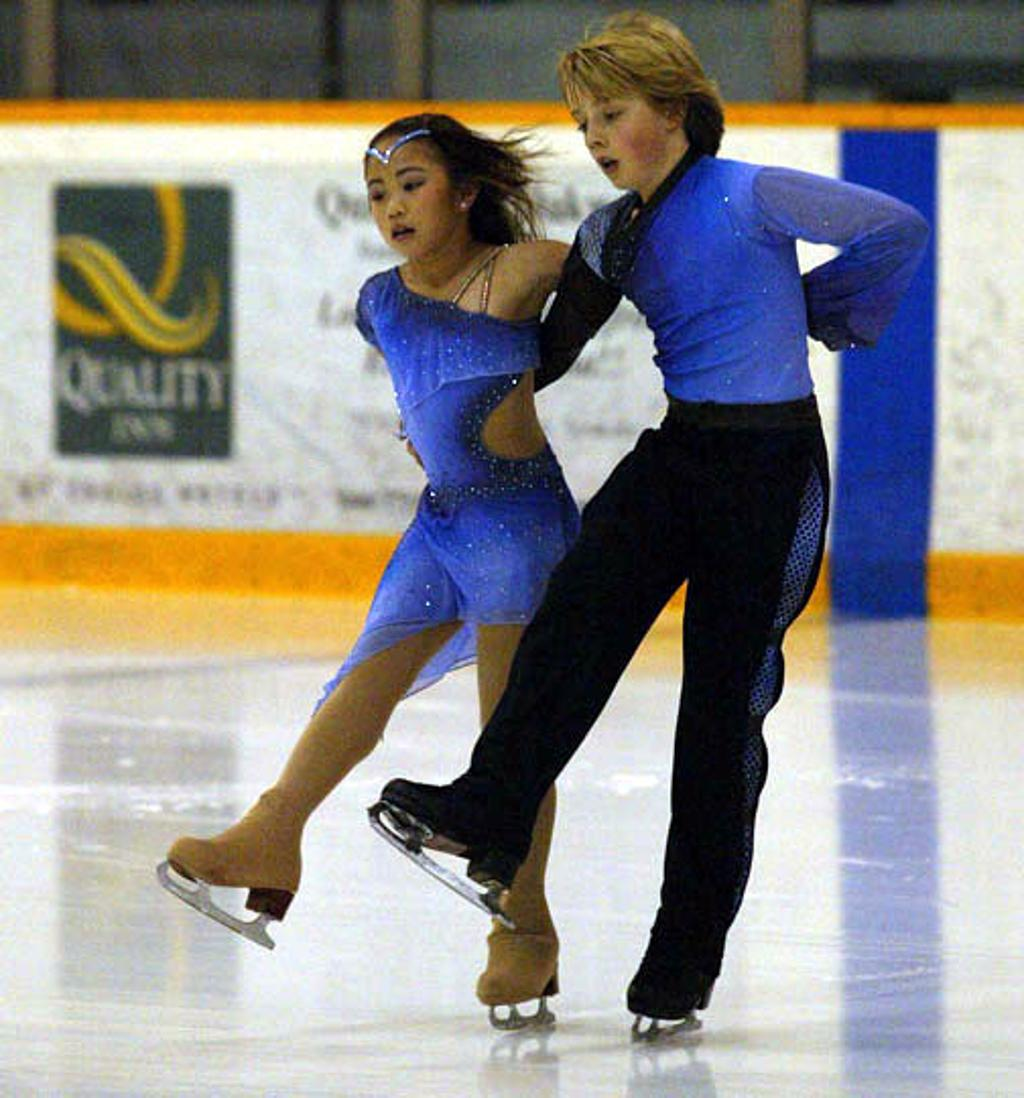face: (563, 64, 670, 184), (368, 141, 458, 257)
